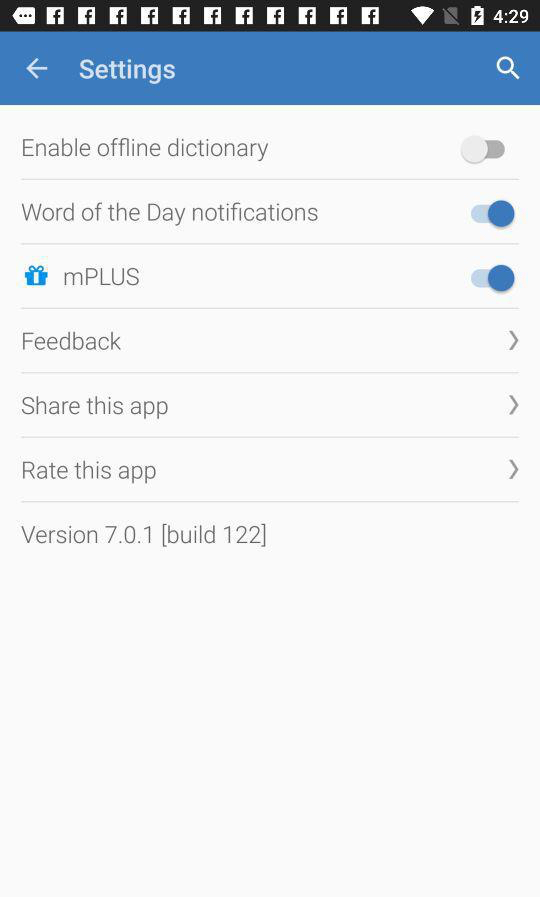Icon: (496, 56, 521, 81), (25, 58, 49, 81), (25, 266, 49, 287), (508, 394, 520, 416), (508, 329, 519, 351), (508, 459, 519, 480)
Switch: (461, 135, 506, 165), (470, 200, 515, 229), (470, 265, 515, 293)
Text: (23, 202, 319, 227), (23, 138, 269, 163), (22, 523, 267, 548), (22, 395, 169, 420), (23, 460, 157, 485), (80, 59, 177, 86), (23, 331, 122, 351), (64, 267, 140, 287)
Toolbar: (1, 33, 540, 106)
UpperTaskBar: (1, 1, 540, 33)
